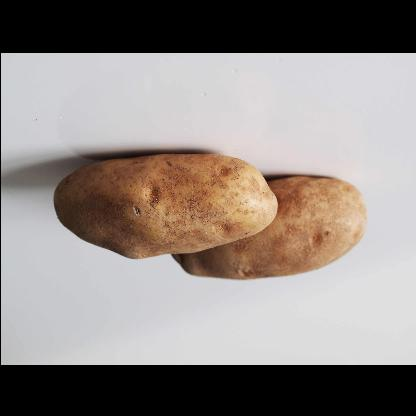potato: (52, 151, 278, 259), (169, 174, 367, 280)
